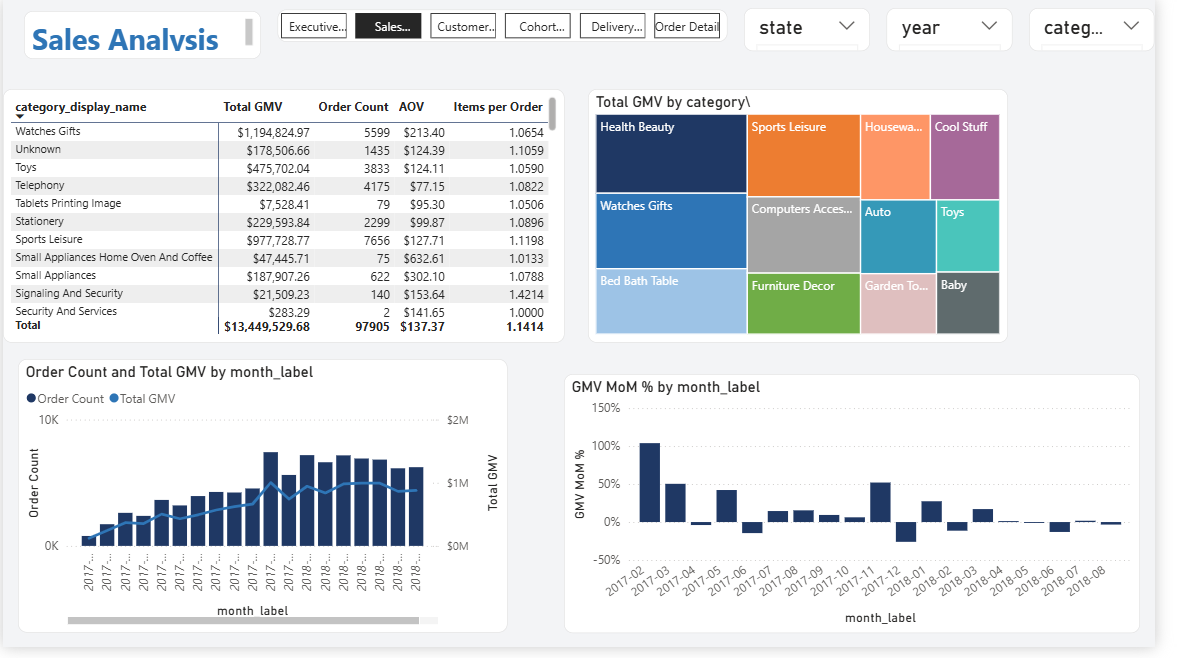

Layout of this report page (visuals, bound fields, positions):
{"tool":"powerbi","page":{"name":"Sales Analysis","canvas":[1280,720],"ordinal":1},"visuals":[{"type":"pivotTable","fields":{"Rows":["Product.category_display_name"],"Values":["_Measures.Total GMV","_Measures.Order Count","_Measures.AOV","_Measures.Items per Order"]},"box":[0,100,624,282],"z":0},{"type":"lineStackedColumnComboChart","fields":{"Category":["Date.month_label"],"Y":["_Measures.Order Count"],"Y2":["_Measures.Total GMV"]},"box":[16,400,544,304],"z":1000},{"type":"treemap","title":"Total GMV by category\\","fields":{"Group":["Product.category_display_name"],"Values":["_Measures.Total GMV"]},"box":[649.5,100,466.7,281.7],"z":2000},{"type":"columnChart","fields":{"Category":["Date.month_label"],"Y":["_Measures.GMV MoM %"]},"box":[624,416,640,288],"z":3000},{"type":"slicer","fields":{"Values":["Date.year"]},"box":[982.5,10,140,48],"z":4000},{"type":"slicer","fields":{"Values":["Product.category_display_name"]},"box":[1140.6,10,139.4,47.9],"z":5000},{"type":"slicer","fields":{"Values":["Customer.customer_state"]},"box":[824.1,10,140,47.9],"z":6000},{"type":"pageNavigator","box":[305.7,12,500,36],"z":7000},{"type":"textbox","box":[23.9,12.7,263.4,53.5],"z":8000}]}

Visuals, with their boxes in screenshot pixels (x1, y1, x2, y2), scaled from the page's 1280x720 canvas onto the 1188x658 screenshot:
pivotTable - Product.category_display_name x _Measures.Total GMV: detection(0, 91, 579, 349)
lineStackedColumnComboChart - Date.month_label x _Measures.Order Count: detection(15, 366, 520, 643)
"Total GMV by category\" treemap: detection(603, 91, 1036, 349)
columnChart - Date.month_label x _Measures.GMV MoM %: detection(579, 380, 1173, 643)
slicer - Date.year: detection(912, 9, 1042, 53)
slicer - Product.category_display_name: detection(1059, 9, 1187, 53)
slicer - Customer.customer_state: detection(765, 9, 895, 53)
pageNavigator: detection(284, 11, 748, 44)
textbox: detection(22, 12, 267, 60)
